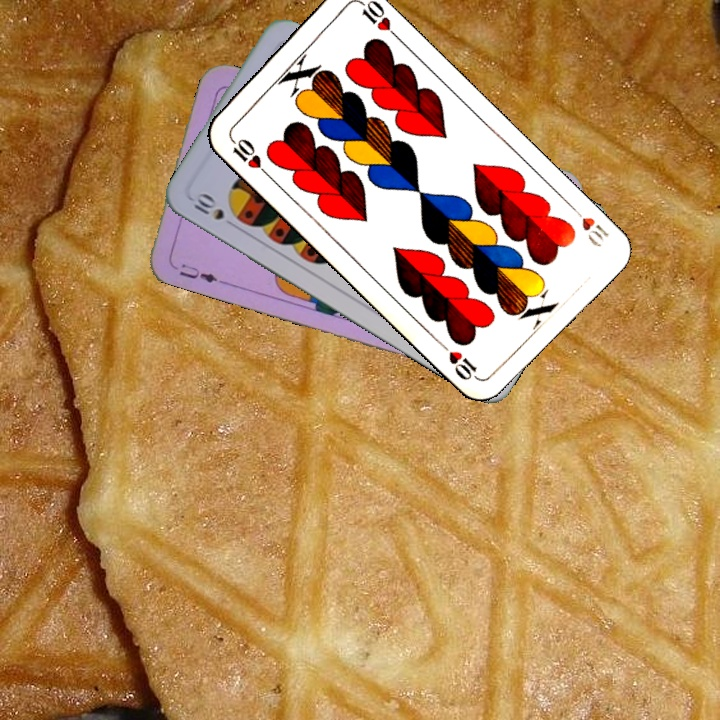EU: (167, 258, 225, 286)
H10: (565, 200, 612, 250), (225, 132, 272, 179)
S10: (187, 189, 240, 231)
